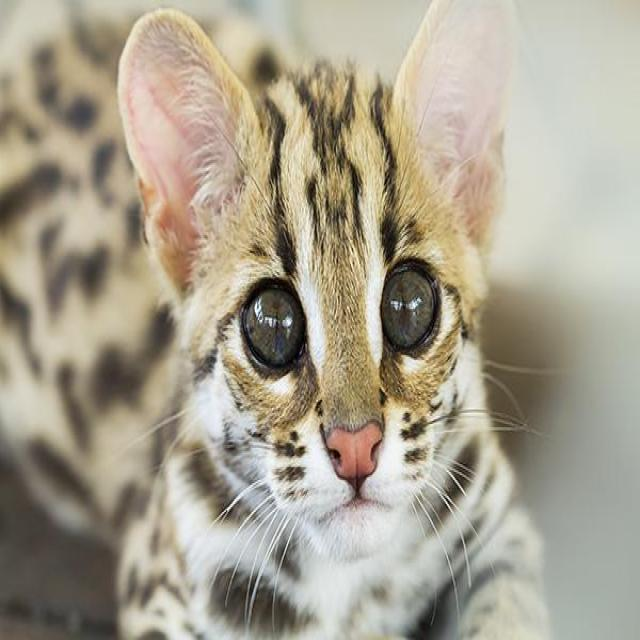leopard: (167, 50, 502, 640)
